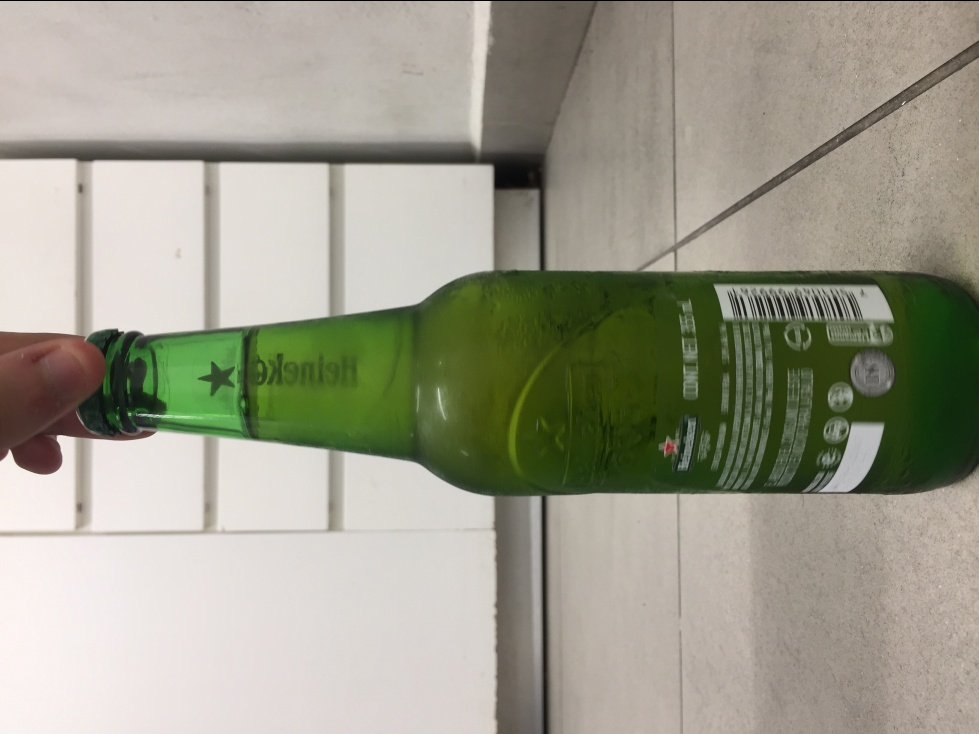heineken: (69, 266, 979, 500)
